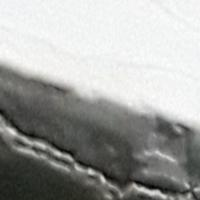crack: (0, 93, 190, 199)
